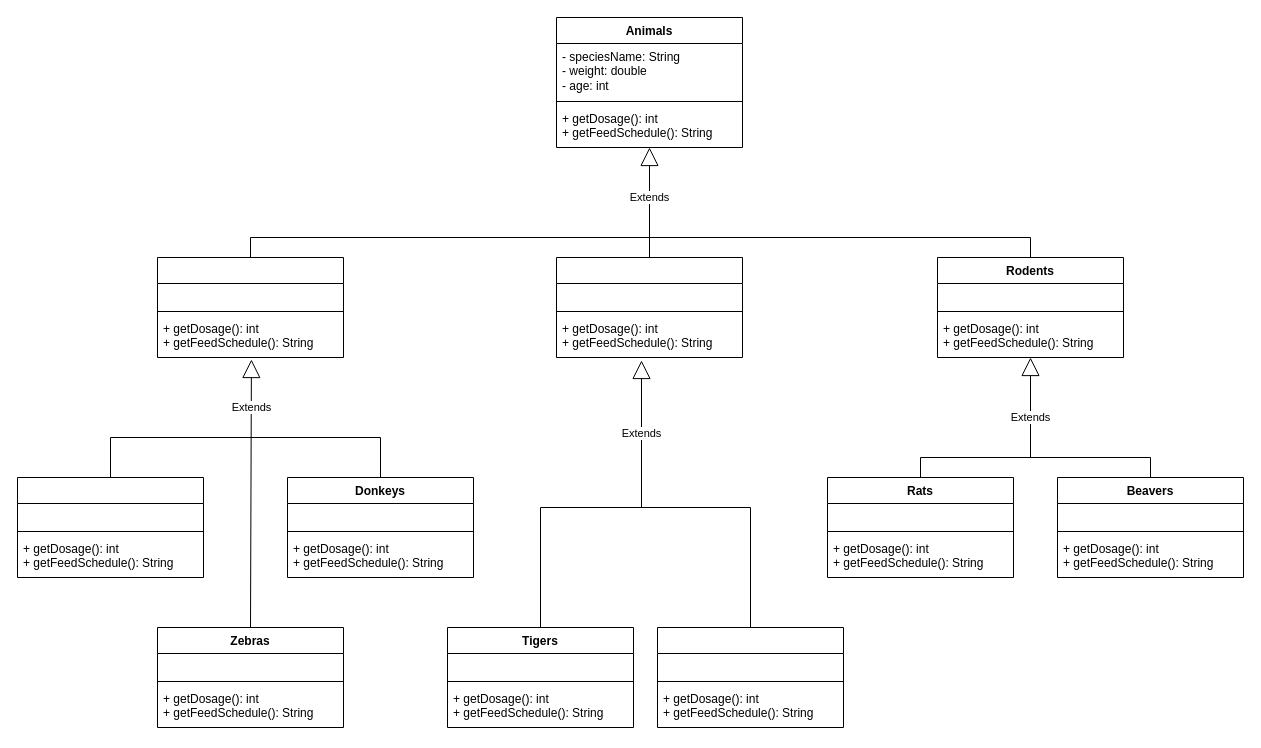
The diagram is 1261 pixels wide and 748 high, and some of its shapes have lost their labels. Each missing label, with the box of its shape:
Equine: (156, 256, 344, 358)
Felines: (556, 256, 742, 358)
Horses: (16, 476, 204, 578)
Lions: (656, 626, 844, 728)
